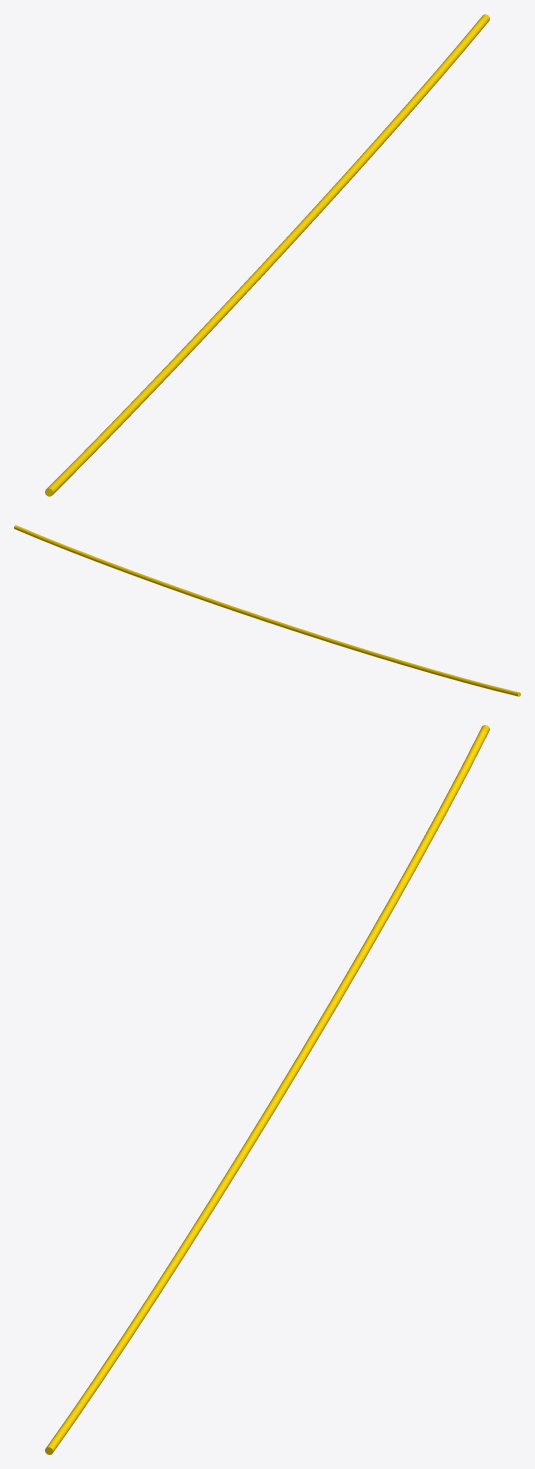
File: Event_421115418_track_11.fbx
3 renders of one model, top to bottom at view 1: azimuth 90°, elevation 25°; view 2: azimuth 150°, elevation 25°; view 3: azimuth 270°, elevation 25°, orthographic. The views are drawn at different scales.
Parts seen in each view (by area): view 1: Model; view 2: Model; view 3: Model.
Boxes of the visible parts, x1,y1,x2,y2 form: Model: [45, 14, 489, 496]; Model: [14, 525, 520, 696]; Model: [45, 725, 489, 1454].
Bounding box in the file's own units: 6.59 × 0.6758 × 2.07.
